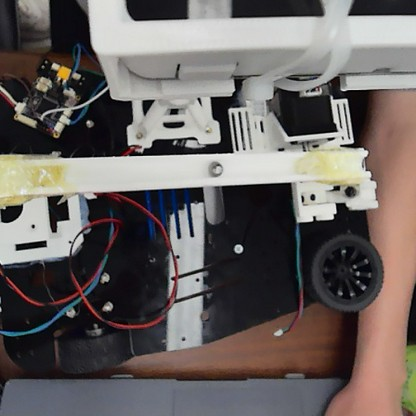ironball: (206, 158, 224, 176)
